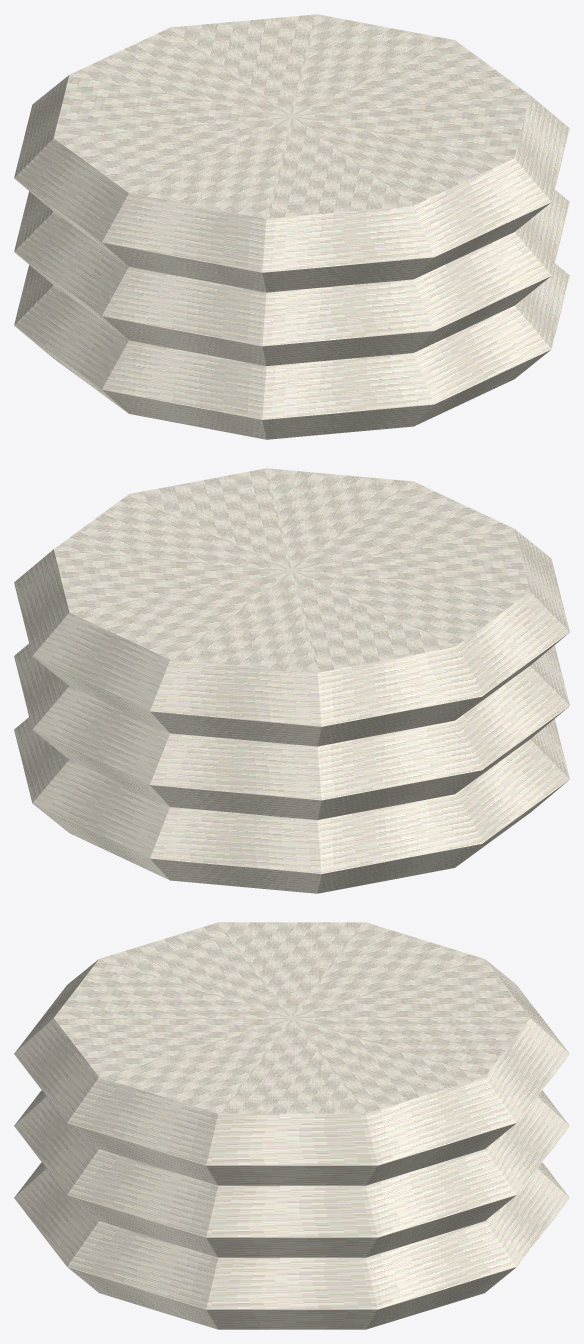
Rendered from bandagem.glb.
3 views of the same model, one above another, from view 1: azimuth 30°, elevation 25°; view 2: azimuth 150°, elevation 25°; view 3: azimuth 270°, elevation 25° (orthographic). The views are drawn at different scales.
Parts seen in each view (by area): view 1: bandagem; view 2: bandagem; view 3: bandagem.
Boxes of the visible parts, bbox=[...] form: bandagem: bbox=[14, 14, 569, 439]; bandagem: bbox=[14, 468, 569, 893]; bandagem: bbox=[14, 922, 569, 1329].
Size of the model in its own units: 0.3994 by 0.18 by 0.42.
Materials: 1 (1 with a texture image).
